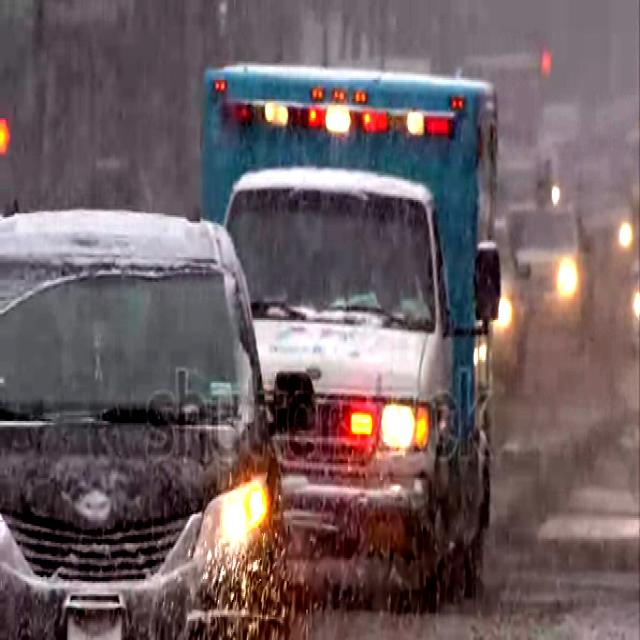ambulance: (201, 63, 501, 623)
